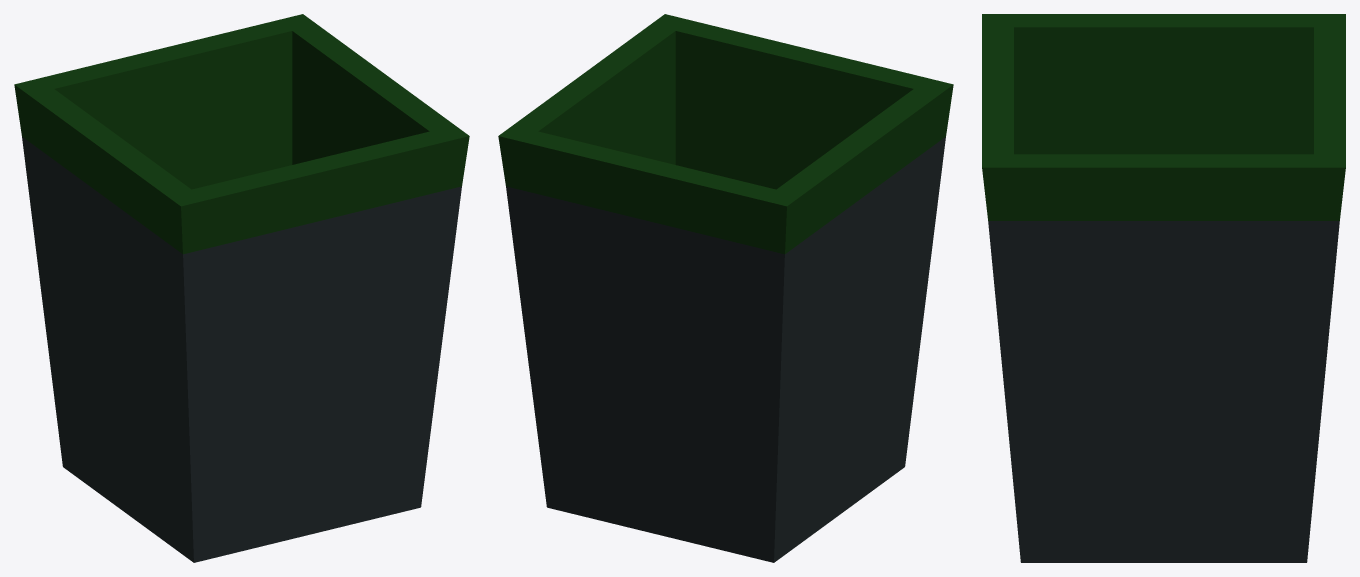
The model's file is Bin_000.glb.
3 views of the same model, side by side, from view 1: azimuth 30°, elevation 25°; view 2: azimuth 150°, elevation 25°; view 3: azimuth 270°, elevation 25° (orthographic). The views are drawn at different scales.
Visible parts, largest first — view 1: Cube.001; view 2: Cube.001; view 3: Cube.001.
Boxes of the visible parts, bbox=[...] form: Cube.001: bbox=[14, 14, 469, 562]; Cube.001: bbox=[498, 14, 953, 562]; Cube.001: bbox=[982, 14, 1345, 562].
Size of the model in its own units: 0.3294 by 0.4111 by 0.3294.
